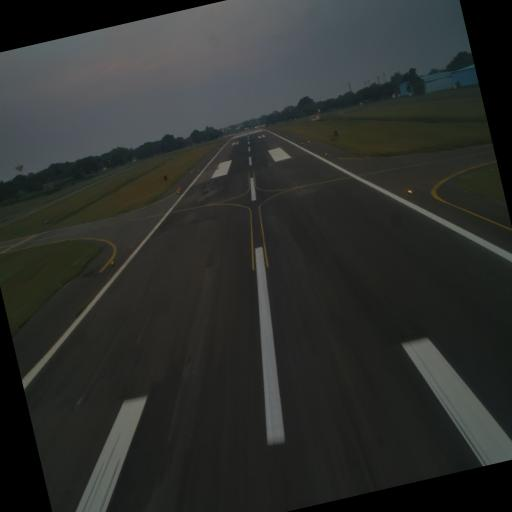on: (406, 186, 414, 197), (108, 259, 116, 268)
